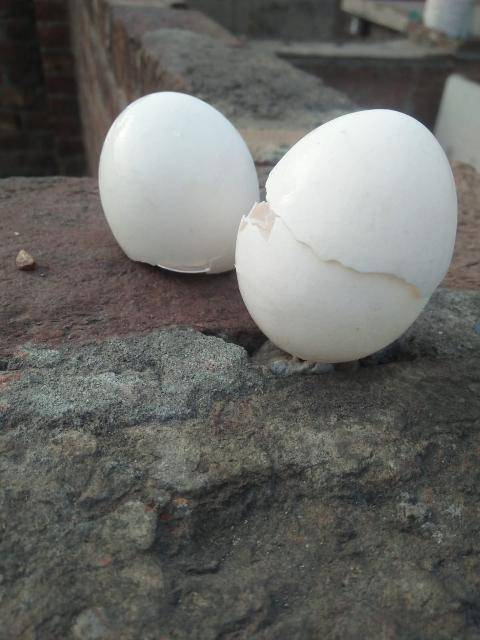Roto: (234, 107, 458, 364), (98, 89, 261, 274)
